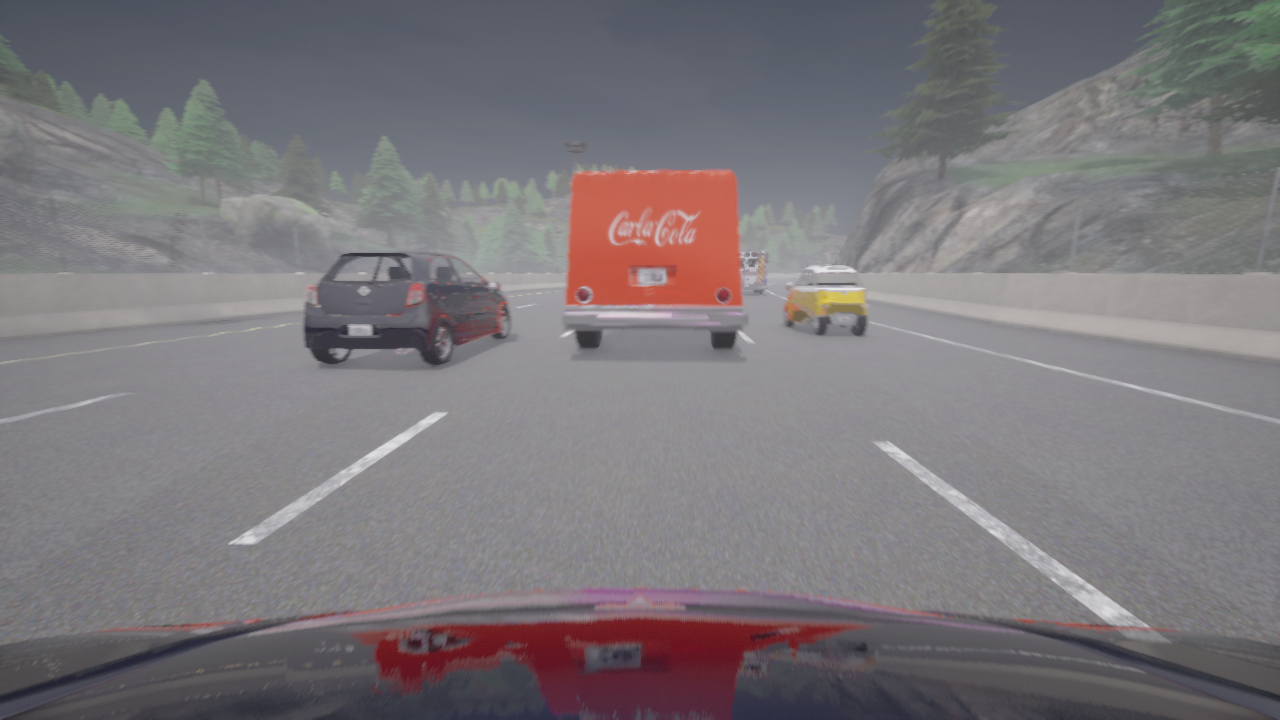cyclist: (0, 588, 1279, 719), (563, 170, 747, 349), (302, 251, 510, 365), (784, 265, 867, 336), (739, 250, 767, 293)
